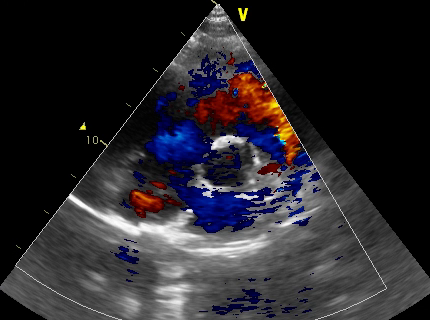TR: (137, 121, 216, 208)
